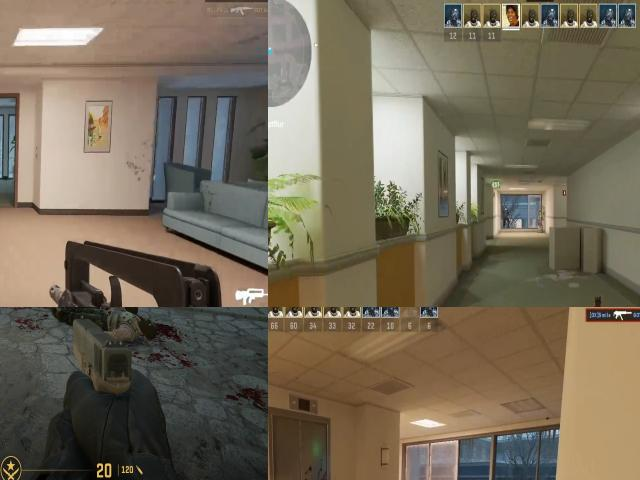CT: (502, 205, 510, 229)
Dead: (48, 307, 155, 339), (58, 307, 139, 312)
